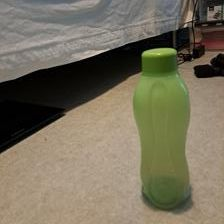bottle: (131, 44, 193, 210)
